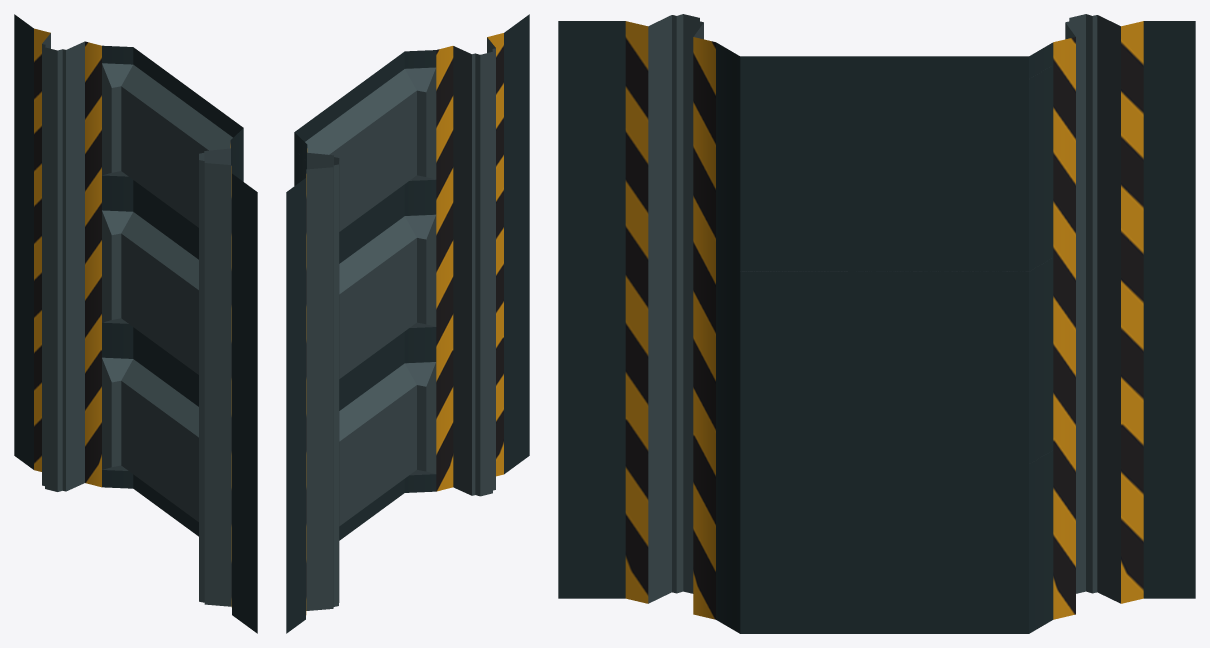
The model's file is SM_Elevator_Rail.fbx.
The picture shows the model from 3 angles, left to right: view 1: azimuth 30°, elevation 25°; view 2: azimuth 150°, elevation 25°; view 3: azimuth 270°, elevation 25°; orthographic projection. The views are drawn at different scales.
Visible parts, largest first — view 1: SM_Elevator_Rail; view 2: SM_Elevator_Rail; view 3: SM_Elevator_Rail.
Part boxes in pixels (bbox=[...]): SM_Elevator_Rail: bbox=[14, 14, 257, 633]; SM_Elevator_Rail: bbox=[286, 14, 529, 633]; SM_Elevator_Rail: bbox=[558, 14, 1195, 633].
Bounding box in the file's own units: 47.26 × 300 × 300.
1 material, 1 textured.
